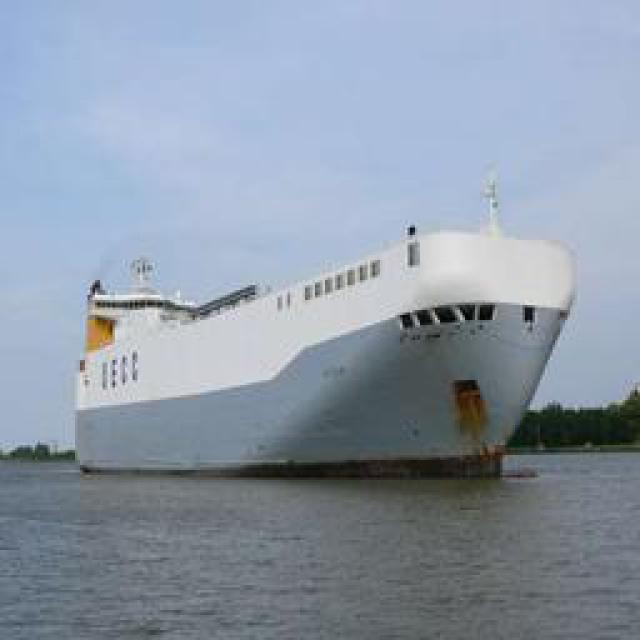Ship: (81, 197, 589, 467)
